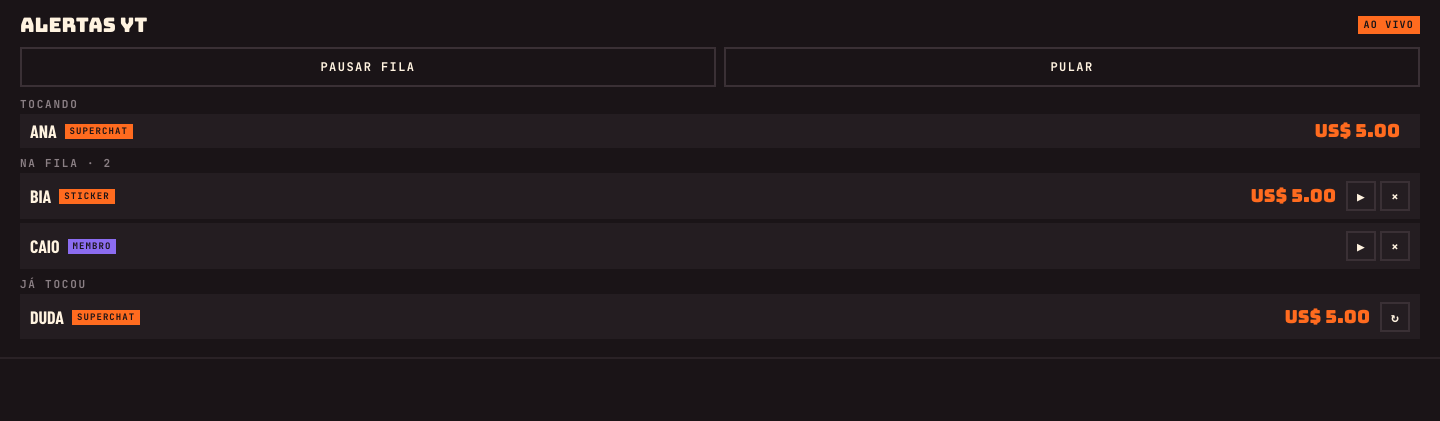
Scenario: FilaAlertas › erro do comando aparece
What coordinates should you click on to do the following:
click the button "PULAR"
I would click on:
 (1072, 67)
Its box is [724,47,1420,87].
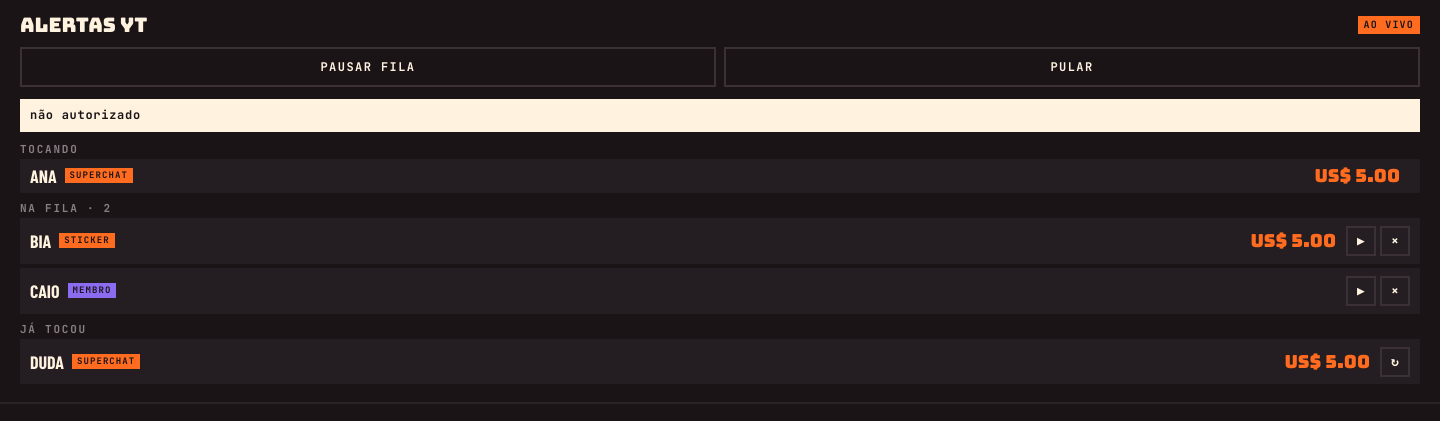
expect the text "não autorizado" is shown: met, box [20,99,1420,132]
